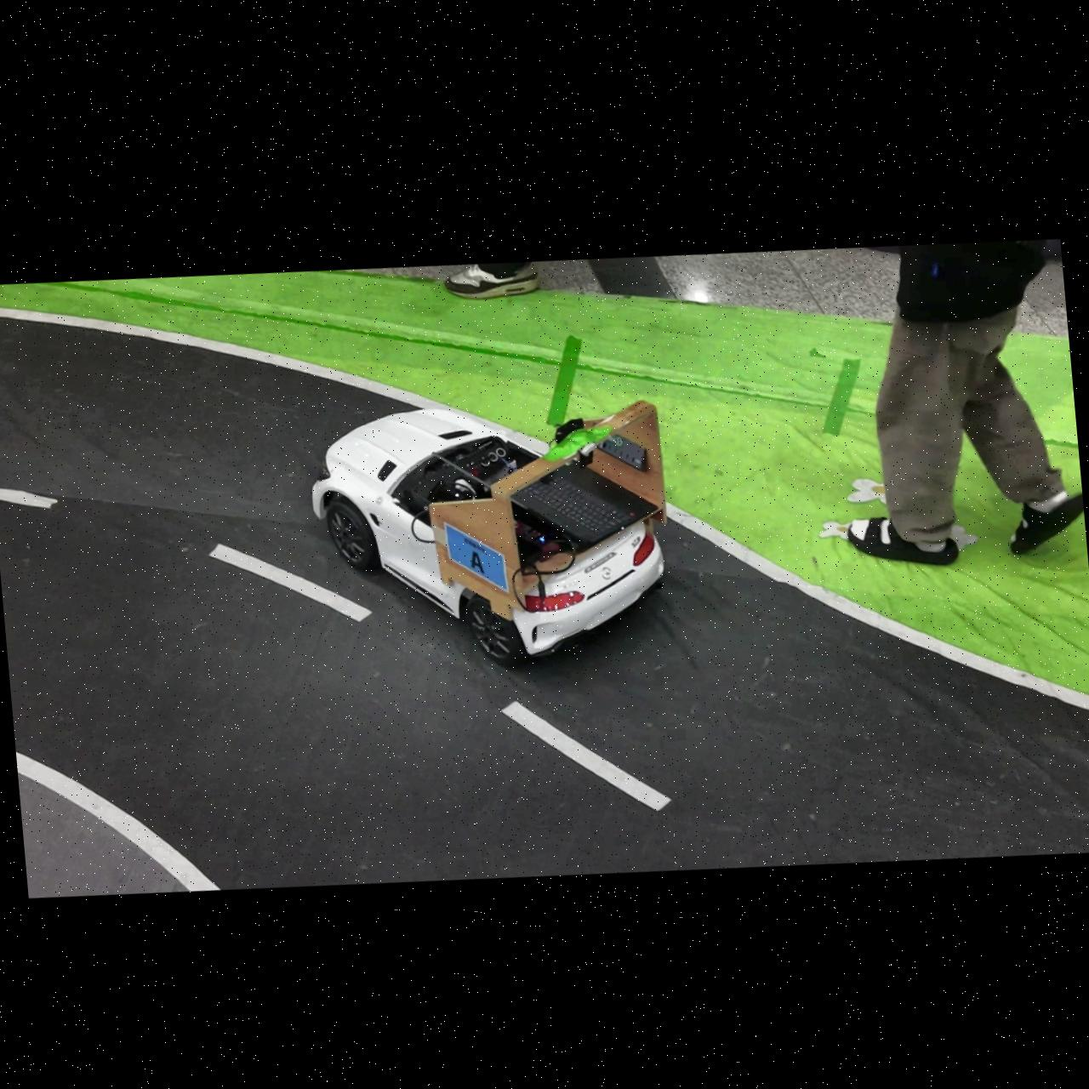broken_line: (501, 701, 672, 811), (209, 543, 373, 621), (0, 488, 59, 508)
